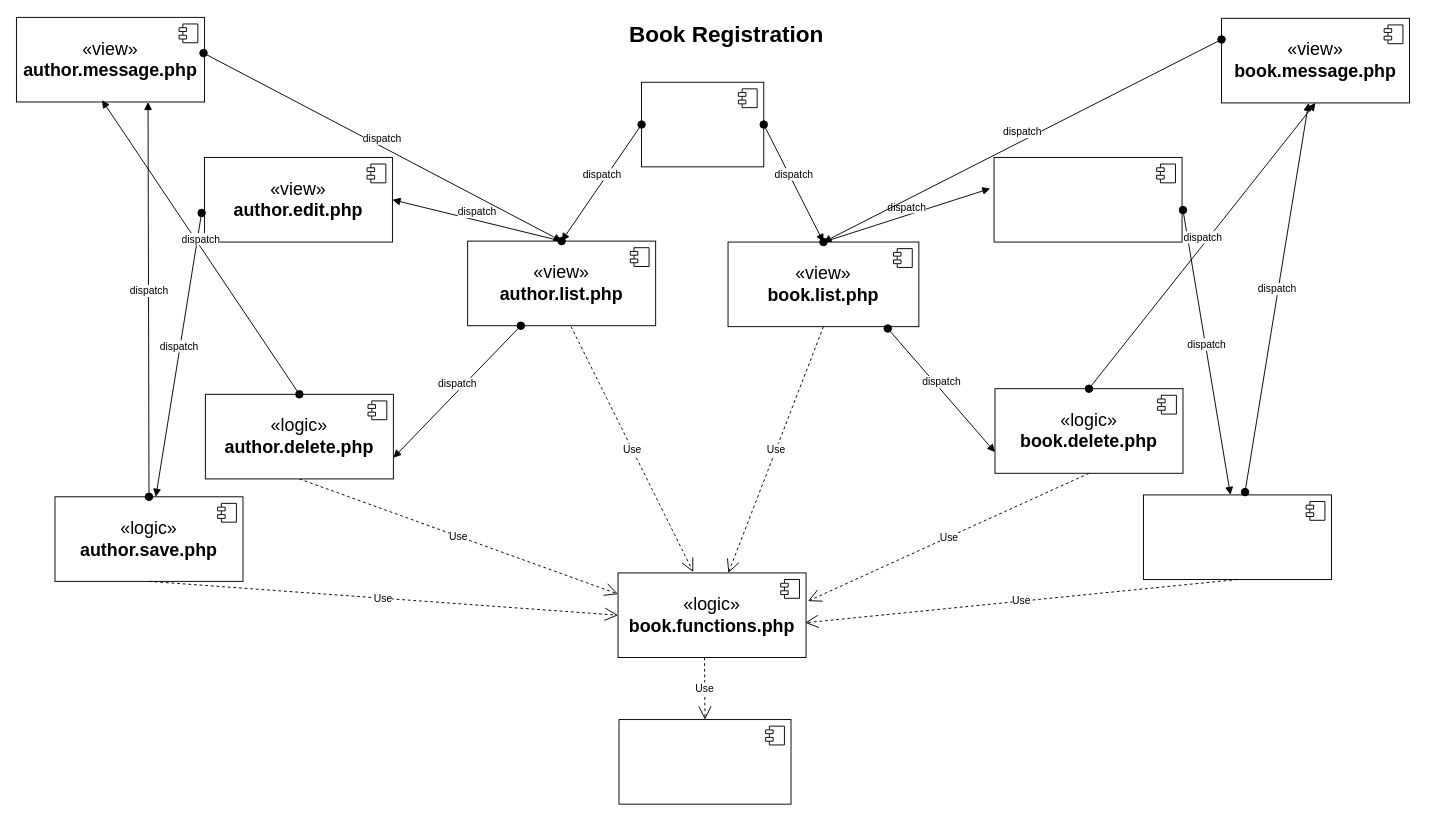
This 1452x821 diagram has some shape labels left out. The box of each missing label's shape, as (x1, y1, x2, y2) in pixels:
«logic» book.config.php: (618, 719, 791, 804)
«logic» book.save.php: (1143, 494, 1332, 580)
«view» book.edit.php: (993, 157, 1182, 242)
«view» index.php: (641, 81, 764, 167)
